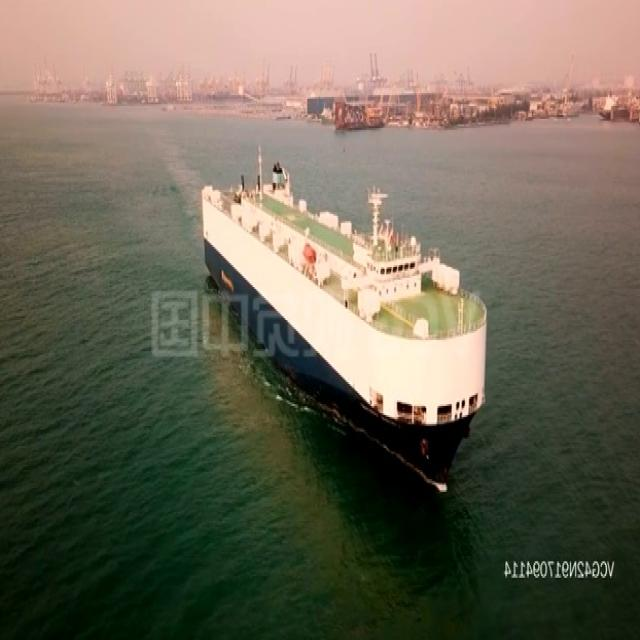cargoship: (198, 148, 494, 480)
